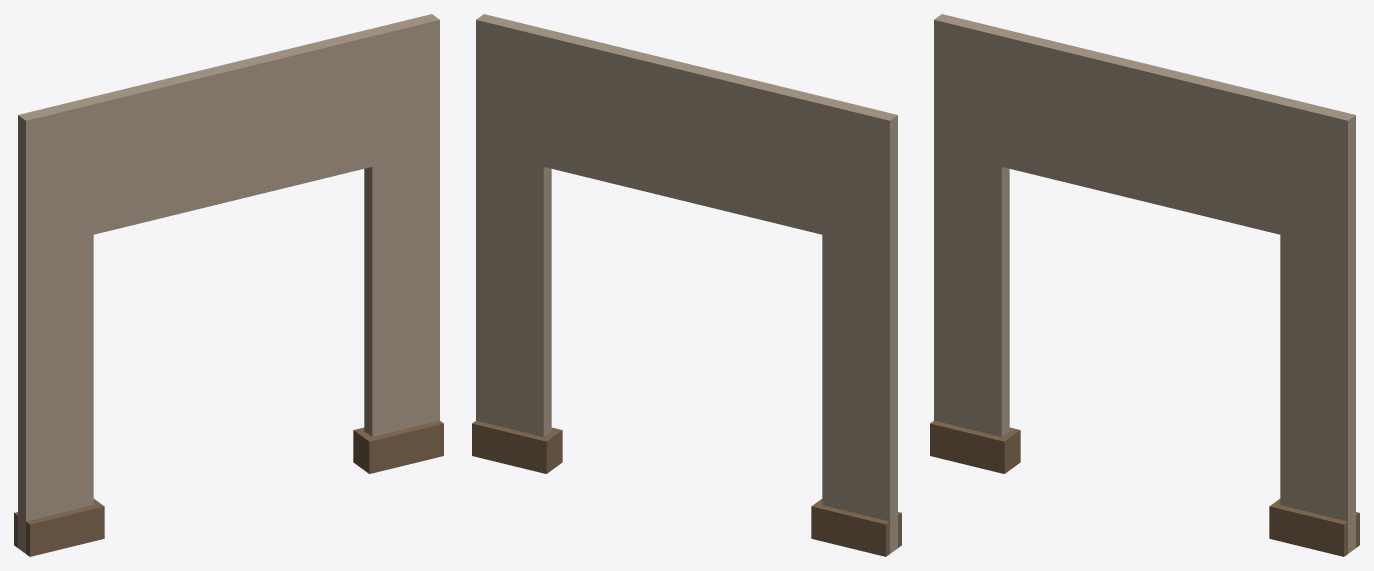
File: Mesh_WallBaseboard_B5.fbx
3 renders of one model, left to right at view 1: azimuth 30°, elevation 25°; view 2: azimuth 150°, elevation 25°; view 3: azimuth 330°, elevation 25°, orthographic.
Visible parts, largest first — view 1: Mesh_WallBaseboard_B5; view 2: Mesh_WallBaseboard_B5; view 3: Mesh_WallBaseboard_B5.
Part boxes in pixels (box(x1,y1,x2,y2)): Mesh_WallBaseboard_B5: box(14, 14, 443, 556); Mesh_WallBaseboard_B5: box(472, 14, 901, 556); Mesh_WallBaseboard_B5: box(930, 14, 1359, 556).
Bounding box in the file's own units: 3 × 3 × 0.2.
